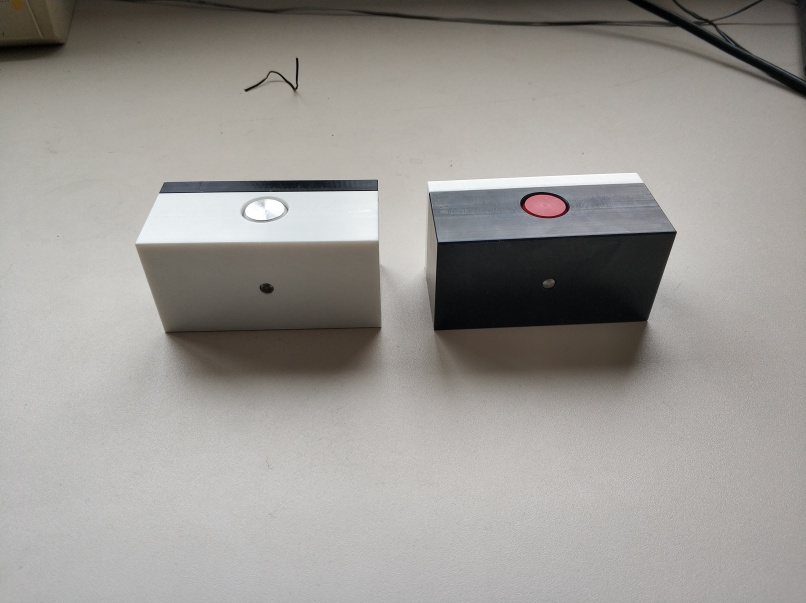black+white+silver: (134, 177, 386, 336)
white+black+red: (423, 170, 680, 335)
